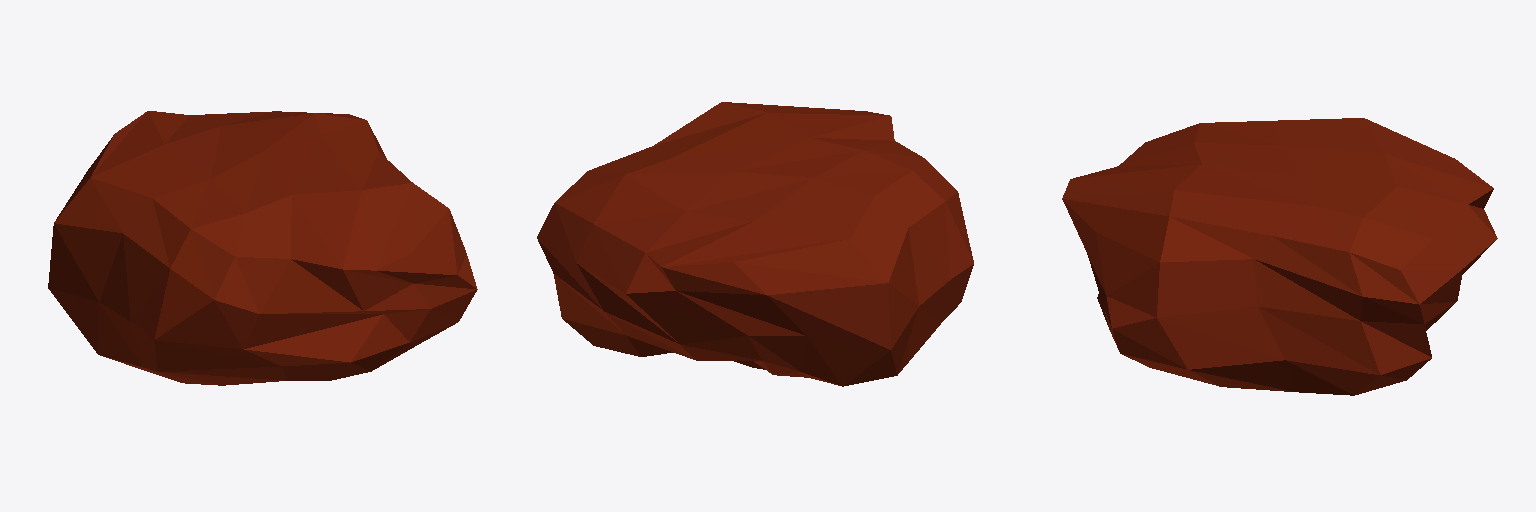
The model's file is rock.obj.
3 views of the same model, side by side, from view 1: azimuth 30°, elevation 25°; view 2: azimuth 150°, elevation 25°; view 3: azimuth 270°, elevation 25° (orthographic).
Parts seen in each view (by area): view 1: Rock1_Mesh; view 2: Rock1_Mesh; view 3: Rock1_Mesh.
Part boxes in pixels (x1,y1,x2,y2): Rock1_Mesh: (48, 111, 477, 385); Rock1_Mesh: (537, 102, 973, 386); Rock1_Mesh: (1062, 118, 1497, 395).
Bounding box in the file's own units: 3.18 × 1.68 × 3.63.